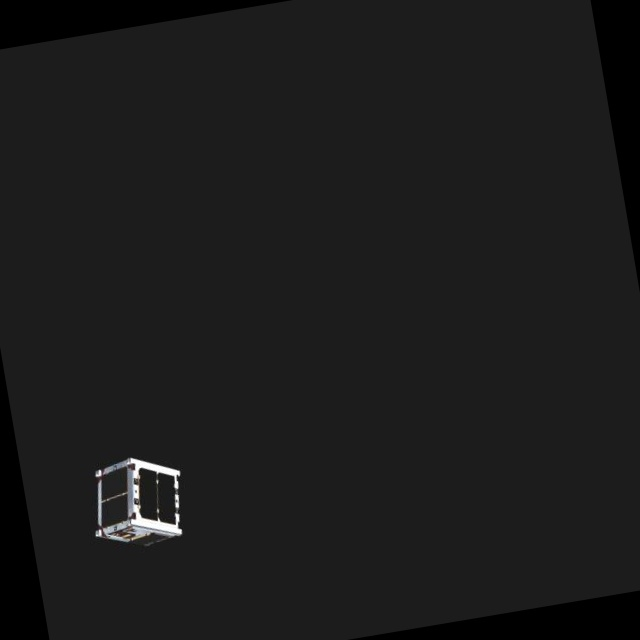medium_debris: (82, 447, 192, 558)
